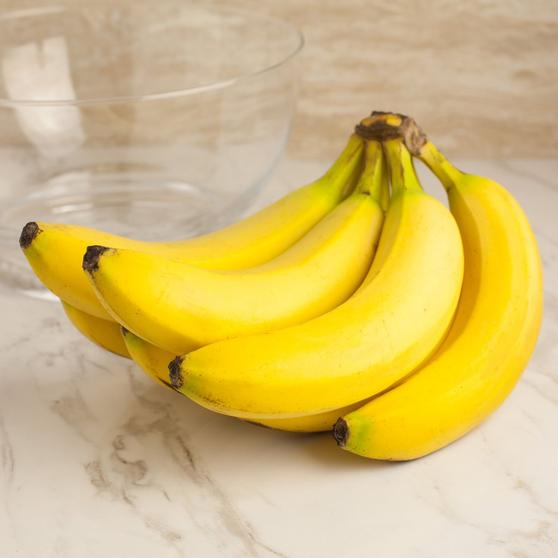banana: (168, 184, 465, 411), (89, 203, 381, 340)
